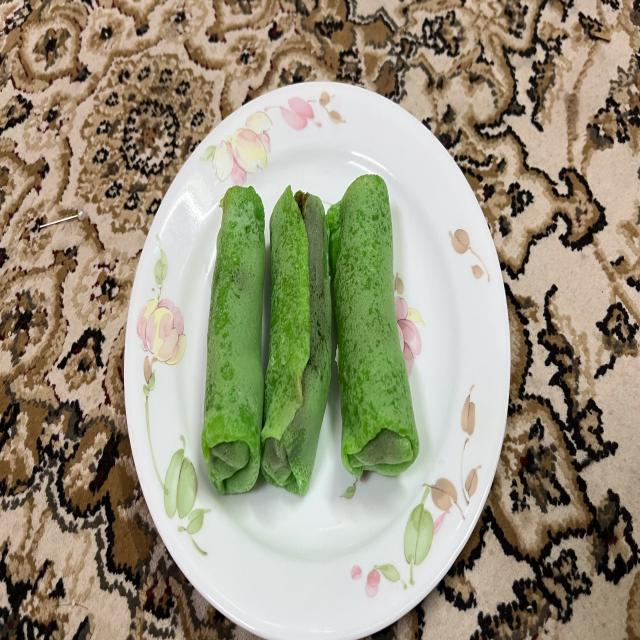Kuih-Ketayap: (326, 176, 419, 478), (261, 187, 331, 496), (201, 187, 265, 493)
